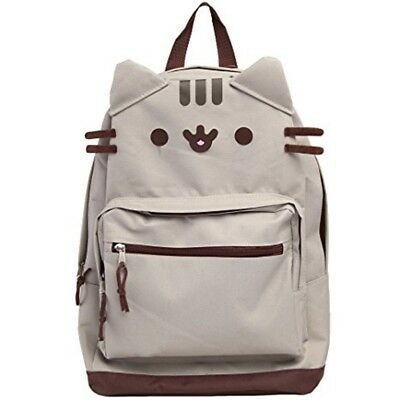nylon: (75, 2, 330, 396)
